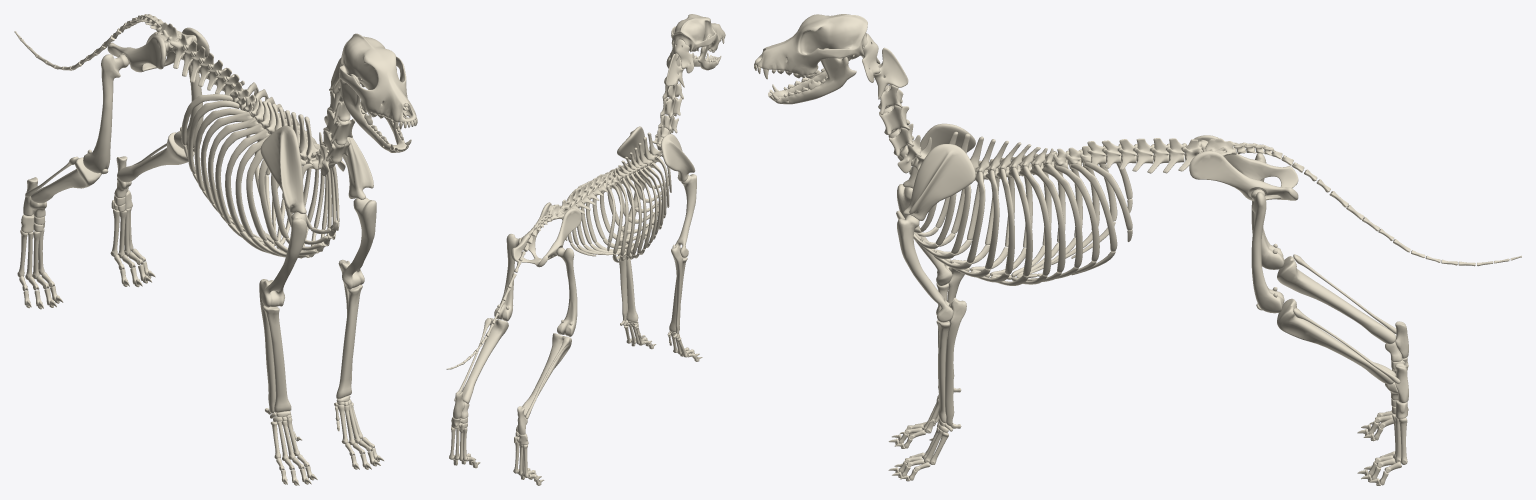
The model's file is Hund-Skelett-Atlas.glb.
The picture shows the model from 3 angles, left to right: view 1: azimuth 30°, elevation 25°; view 2: azimuth 150°, elevation 25°; view 3: azimuth 270°, elevation 25°; orthographic projection. The views are drawn at different scales.
Parts seen in each view (by area): view 1: Ribcage, MergedSkull, Scapula_R, Femoris_R, Pelvis, humerus_R, humerus_L, Jaw, Radius_R, Radius_L, Scapula_L, Tibia_L (+6 smaller); view 2: Ribcage, MergedSkull, Pelvis, Tibia_L, Femoris_R, Scapula_R, Tibia_R, humerus_R, Femoris_L, Ulna_R, Scapula_L, C_1 (+6 smaller); view 3: Ribcage, MergedSkull, Pelvis, Scapula_L, Tibia_R, Jaw, Tibia_L, Femoris_L, humerus_L, Ulna_L, Scapula_R, C_2 (+2 smaller).
Boxes of the visible parts, x1,y1,x2,y2 form: Ribcage: (181,81,339,258); MergedSkull: (339,33,417,131); Scapula_R: (260,125,306,213); Femoris_R: (83,54,128,173); Pelvis: (107,27,209,72); humerus_R: (261,212,307,307); humerus_L: (342,197,376,289); Jaw: (338,67,411,152); Radius_R: (262,305,291,412); Radius_L: (336,285,362,398); Scapula_L: (324,115,373,199); Tibia_L: (117,132,194,182); Ribcage: (565,132,671,262); MergedSkull: (671,14,725,52); Pelvis: (511,202,581,267); Tibia_L: (461,318,508,403); Femoris_R: (556,247,577,336); Scapula_R: (661,134,695,181); Tibia_R: (517,333,571,416); humerus_R: (675,174,696,257); Femoris_L: (494,234,521,321); Ulna_R: (671,244,682,333); Scapula_L: (617,126,644,160); C_1: (666,39,693,73); Ribcage: (896,131,1132,285); MergedSkull: (754,14,867,79); Pelvis: (1189,135,1298,201); Scapula_L: (903,144,975,220); Tibia_R: (1277,256,1396,344); Jaw: (768,48,856,104); Tibia_L: (1277,298,1396,384); Femoris_L: (1251,189,1284,313); humerus_L: (897,215,953,322); Ulna_L: (945,298,966,425); Scapula_R: (903,123,975,188); C_2: (873,47,908,99).
Bounding box in the file's own units: 0.2116 × 0.7433 × 1.16.
